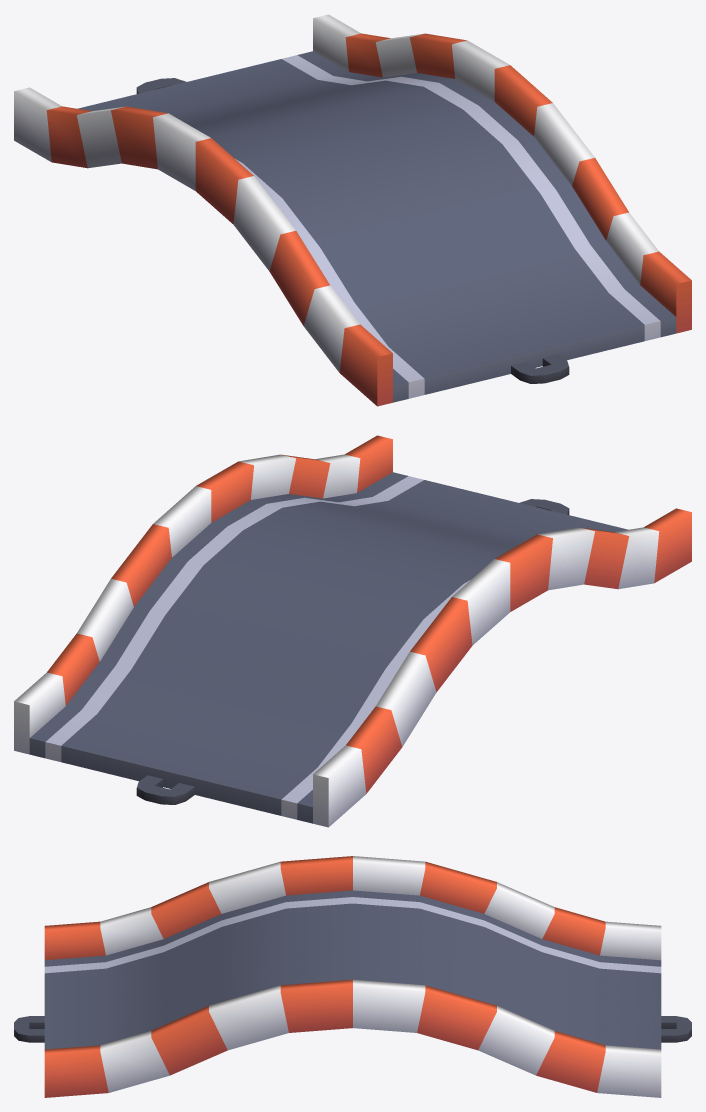
File: track-road-wide-straight-bump-up.glb
The picture shows the model from 3 angles, top to bottom: view 1: azimuth 30°, elevation 25°; view 2: azimuth 150°, elevation 25°; view 3: azimuth 270°, elevation 25°; orthographic projection. The views are drawn at different scales.
Visible parts, largest first — view 1: track-road-wide-straight-bump-up; view 2: track-road-wide-straight-bump-up; view 3: track-road-wide-straight-bump-up.
Part boxes in pixels (x1,y1,x2,y2): track-road-wide-straight-bump-up: (14,14,691,406); track-road-wide-straight-bump-up: (14,435,691,827); track-road-wide-straight-bump-up: (14,856,691,1097).
Bounding box in the file's own units: 2 × 0.8001 × 4.4.
Materials: 1 (1 with a texture image).
